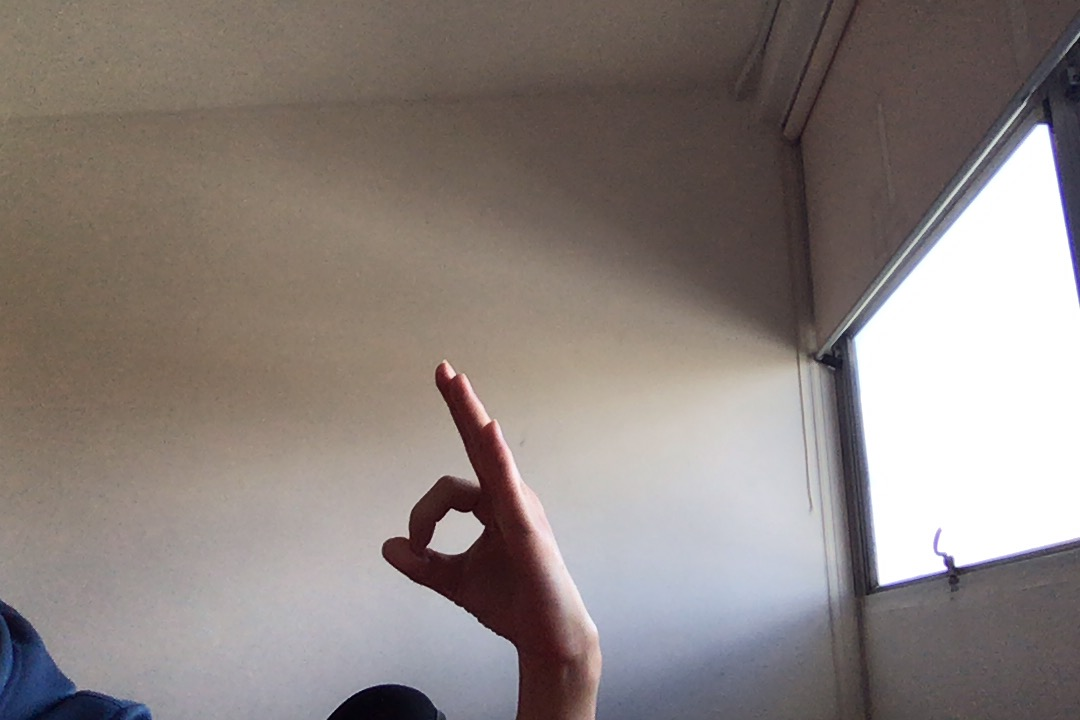oksign: (378, 353, 601, 653)
